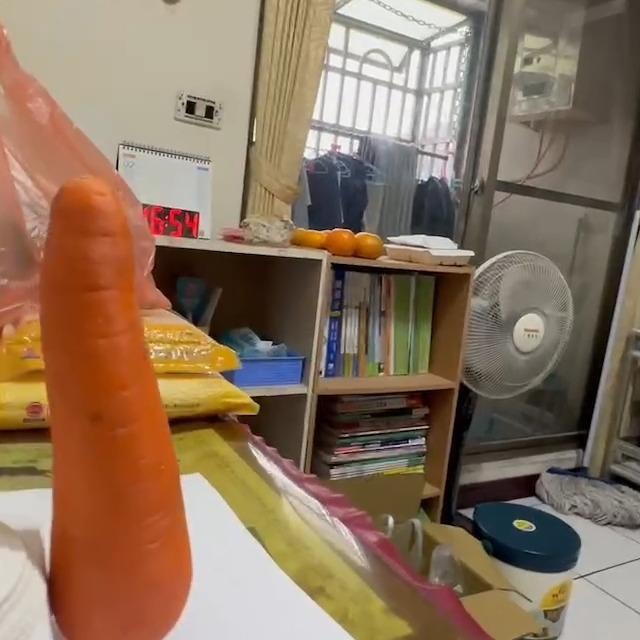carrot: (42, 172, 194, 640)
